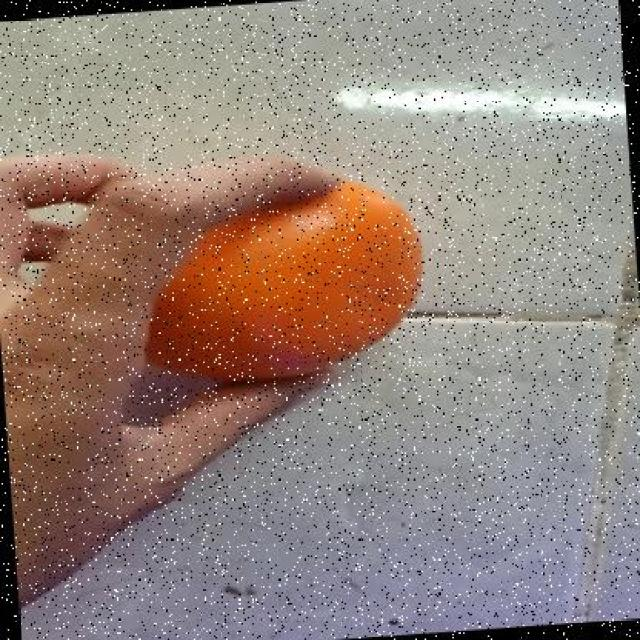Orange: (143, 177, 423, 383)
